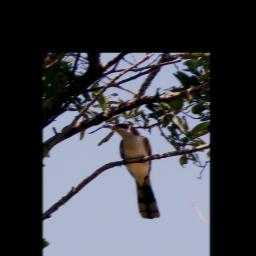Cuckoo: (103, 123, 163, 221)
